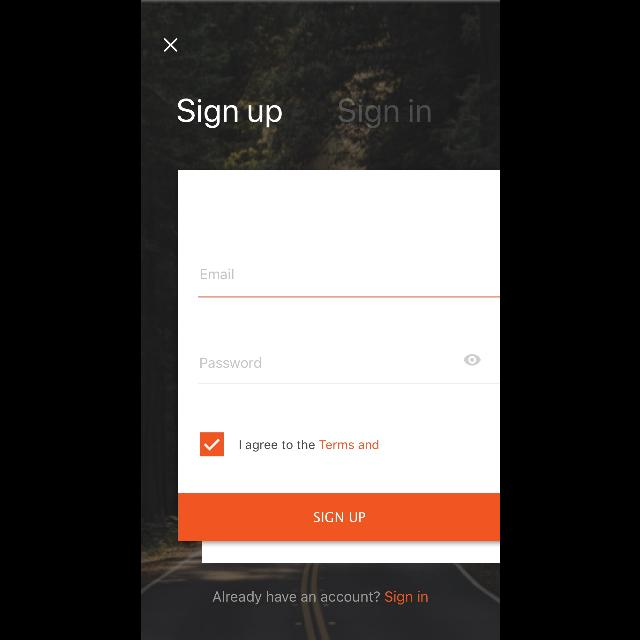checkbox: (200, 432, 222, 456)
icon: (464, 354, 481, 366), (163, 38, 177, 52)
input: (197, 268, 499, 298), (197, 354, 499, 384)
text: (176, 99, 282, 129), (212, 591, 428, 605), (338, 98, 430, 130), (239, 440, 379, 452), (200, 358, 260, 368), (200, 268, 233, 280)
textbutton: (178, 494, 500, 540)
